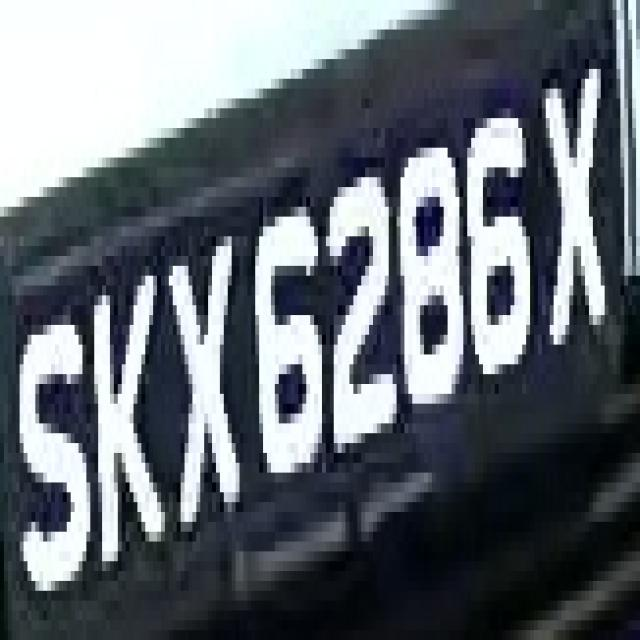2: (322, 177, 404, 463)
6: (235, 187, 326, 502), (459, 69, 534, 384)
8: (385, 119, 471, 424)
K: (83, 217, 157, 581)
S: (16, 266, 86, 600)
X: (157, 197, 247, 561), (526, 39, 624, 354)
